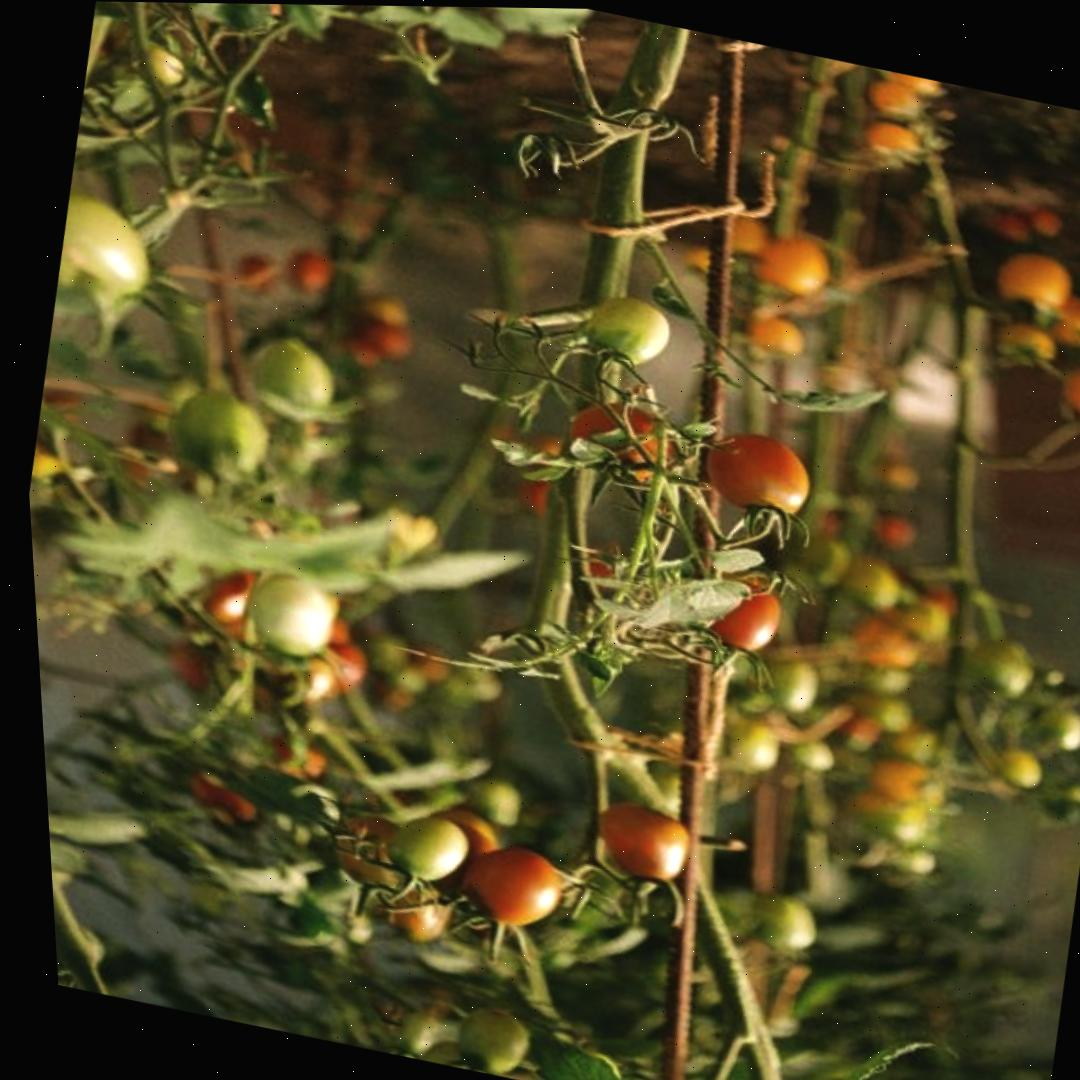mentah: (575, 286, 680, 374), (379, 806, 476, 889)
setengah_matang: (695, 424, 819, 523), (559, 390, 678, 485), (453, 838, 567, 935), (588, 795, 696, 885)
